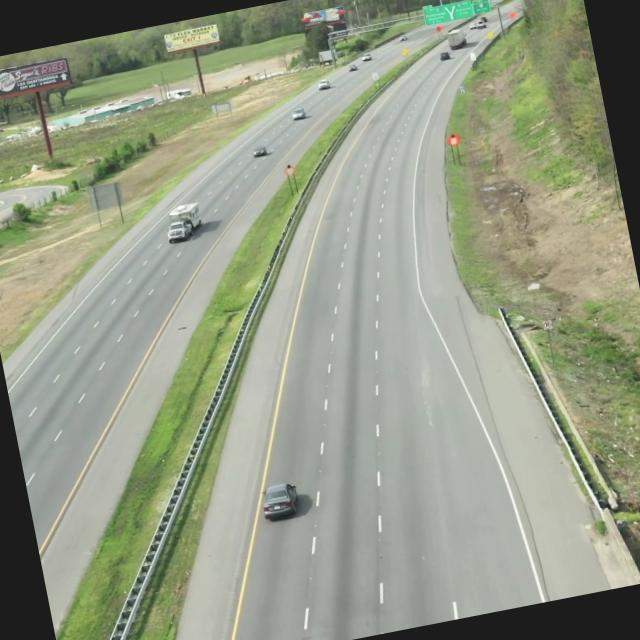Vehicle: (158, 196, 208, 248), (262, 481, 304, 525)
